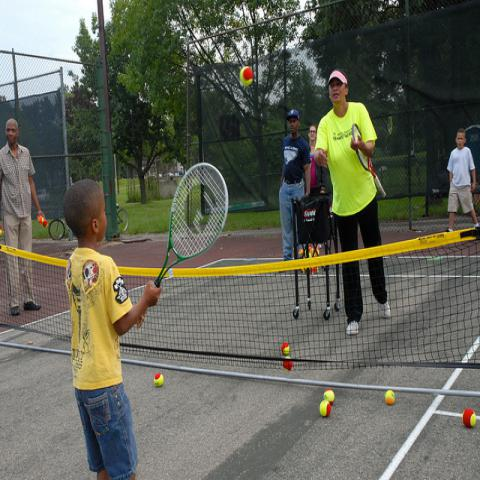car: (438, 125, 479, 180)
